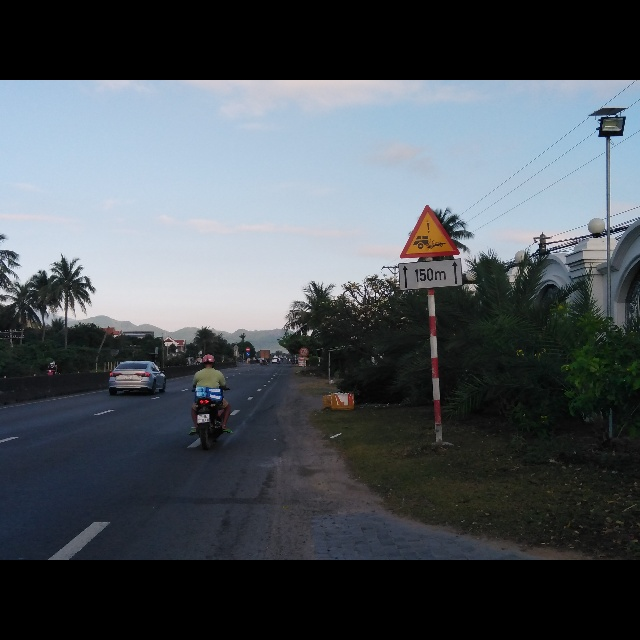Đoạn đường hay xảy ra tai nạn: (399, 205, 458, 259)
